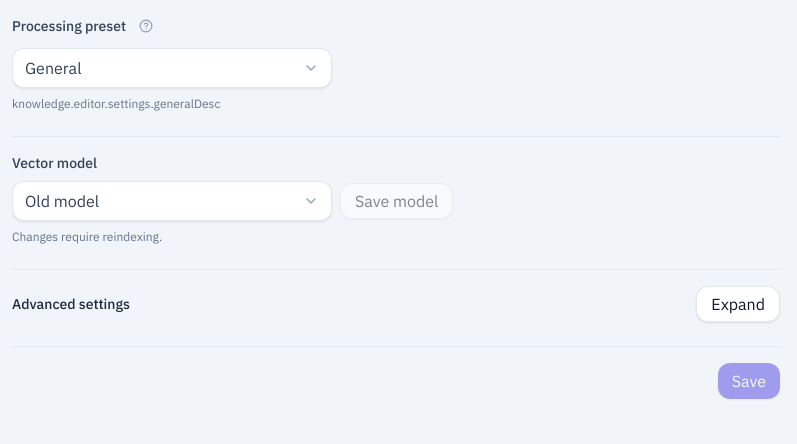
Scenario: RetrievalSettingsTab › saves an empty library model directly without a confirmation dialog
Click the button with aria-label "Vector model" at (62, 201), box [12,181,332,221]
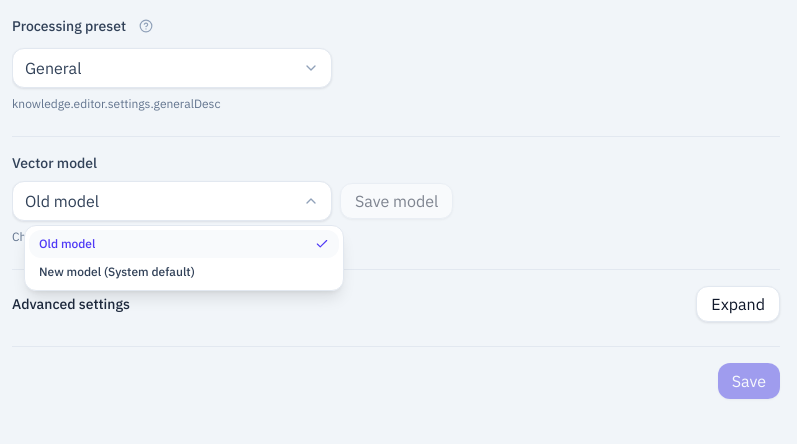
Click the menu item "New model (System default)" at (117, 272), box [39,264,195,279]
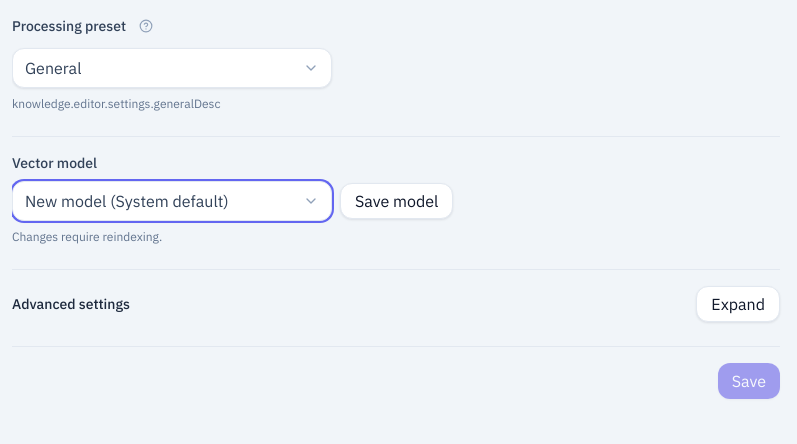
Click the button "Save model" at (397, 201), box [340,183,453,219]
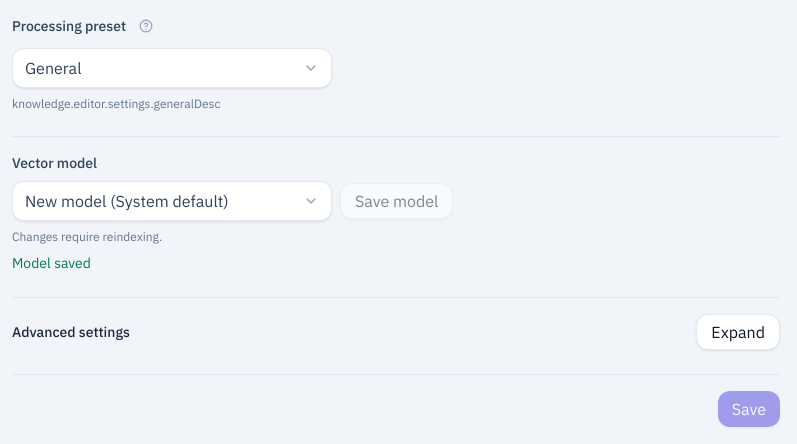
Result: the text "Model saved" is shown at [12,254,91,272]
